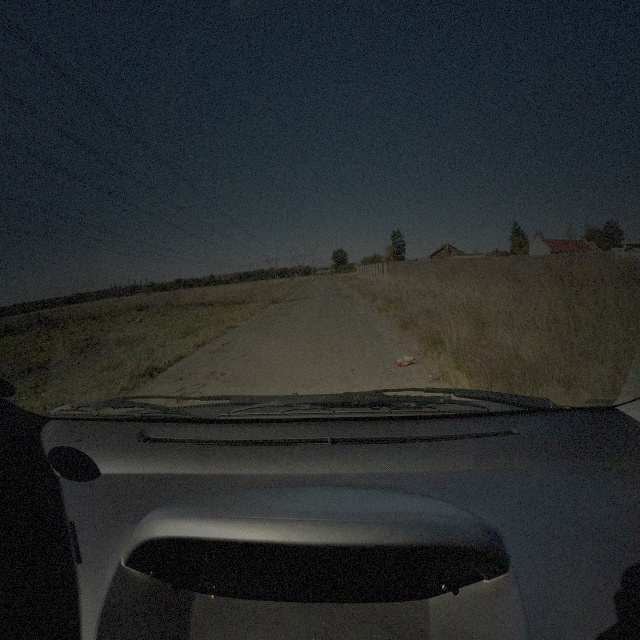pothole: (177, 387, 205, 407), (208, 341, 234, 356), (180, 371, 191, 384), (345, 294, 351, 298)
